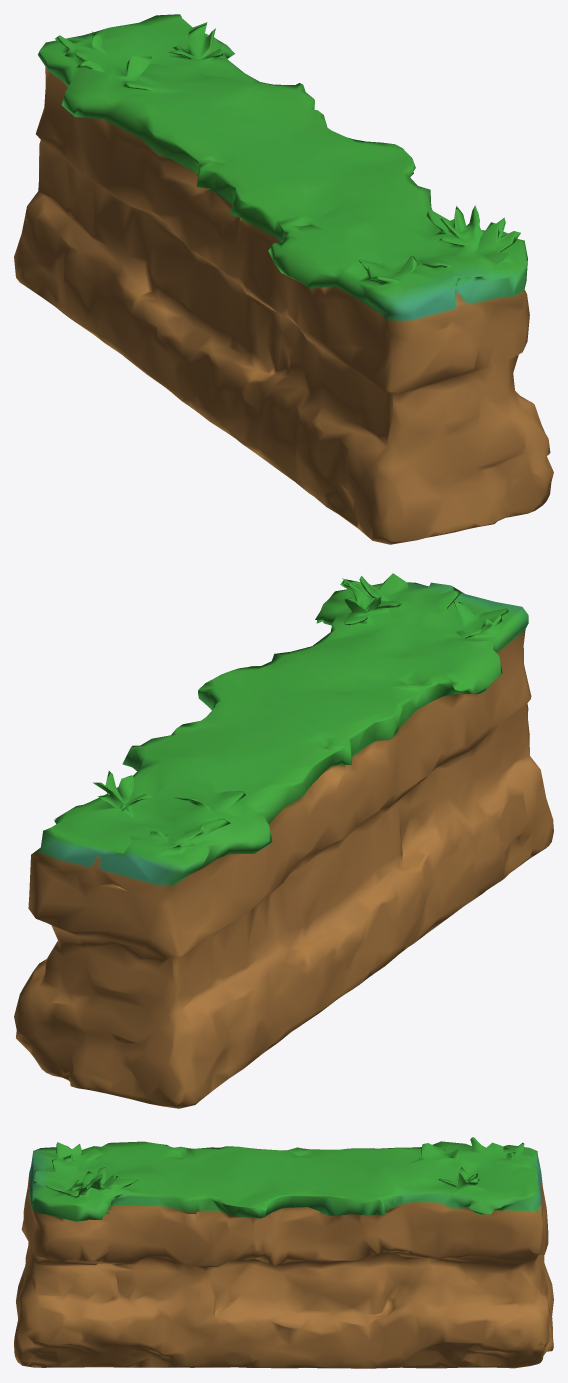
The model's file is textures.glb.
3 views of the same model, one above another, from view 1: azimuth 30°, elevation 25°; view 2: azimuth 150°, elevation 25°; view 3: azimuth 270°, elevation 25° (orthographic). The views are drawn at different scales.
Visible parts, largest first — view 1: tripo_node_2cc8b914-770d-4018-b0e9-f91e1b8f8526; view 2: tripo_node_2cc8b914-770d-4018-b0e9-f91e1b8f8526; view 3: tripo_node_2cc8b914-770d-4018-b0e9-f91e1b8f8526.
Boxes of the visible parts, box(x1,y1,x2,y2) form: tripo_node_2cc8b914-770d-4018-b0e9-f91e1b8f8526: box(14, 14, 553, 544); tripo_node_2cc8b914-770d-4018-b0e9-f91e1b8f8526: box(14, 573, 553, 1108); tripo_node_2cc8b914-770d-4018-b0e9-f91e1b8f8526: box(14, 1137, 553, 1368).
Size of the model in its own units: 0.3114 by 0.3893 by 1.
Materials: 1 (1 with a texture image).
